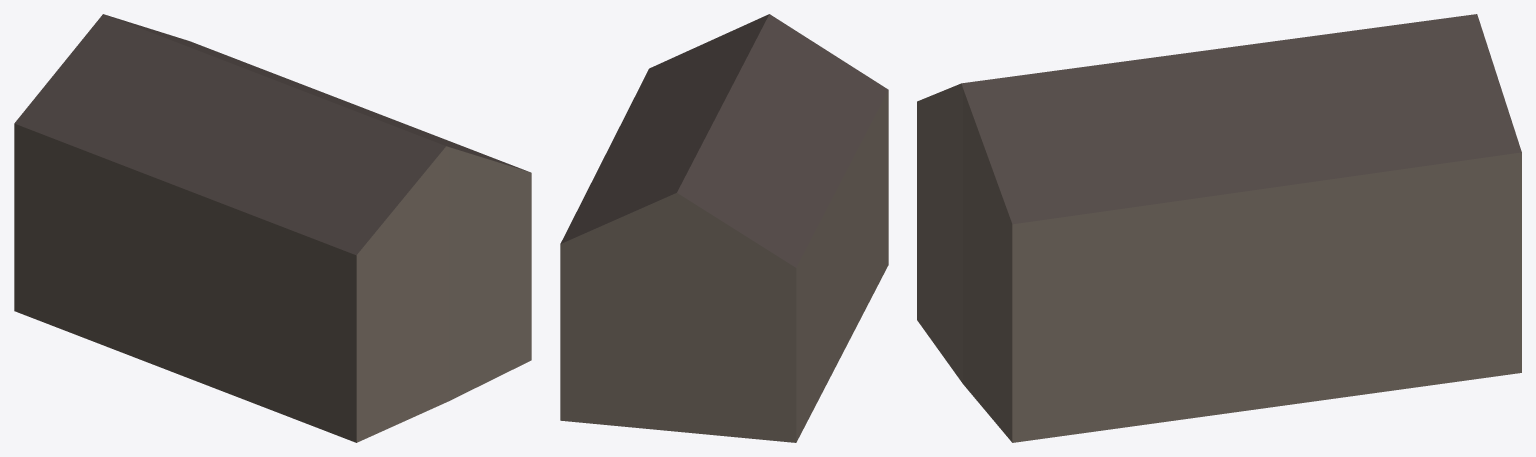
The picture shows the model from 3 angles, left to right: view 1: azimuth 30°, elevation 25°; view 2: azimuth 150°, elevation 25°; view 3: azimuth 270°, elevation 25°; orthographic projection. The views are drawn at different scales.
Visible parts, largest first — view 1: HP-w1198842495; view 2: HP-w1198842495; view 3: HP-w1198842495.
Part boxes in pixels (x1,y1,x2,y2): HP-w1198842495: [14, 14, 531, 442]; HP-w1198842495: [560, 14, 888, 442]; HP-w1198842495: [917, 14, 1521, 442].
Bounding box in the file's own units: 11.3 × 8.2 × 15.05.
